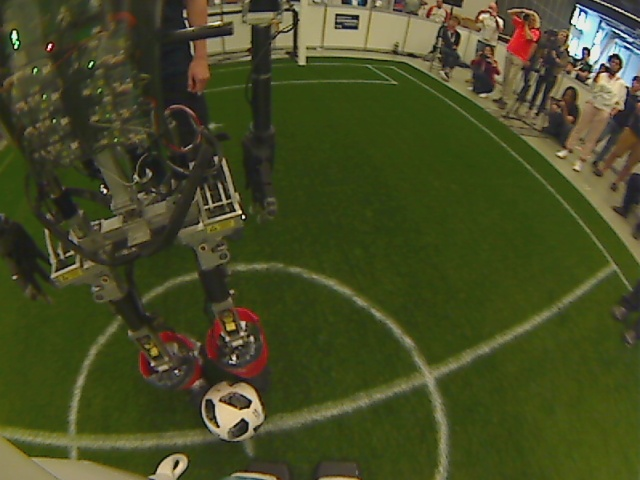ball: (195, 377, 267, 446)
